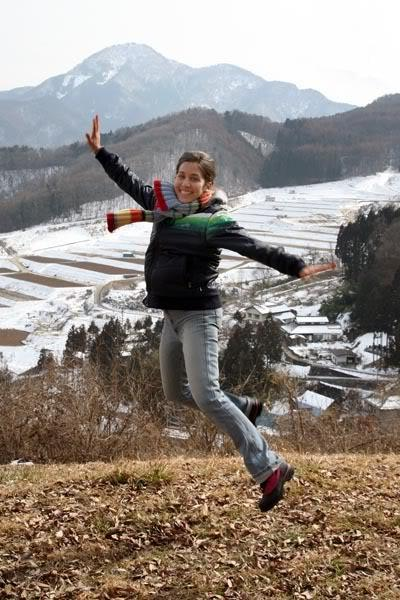person: (88, 114, 334, 514)
